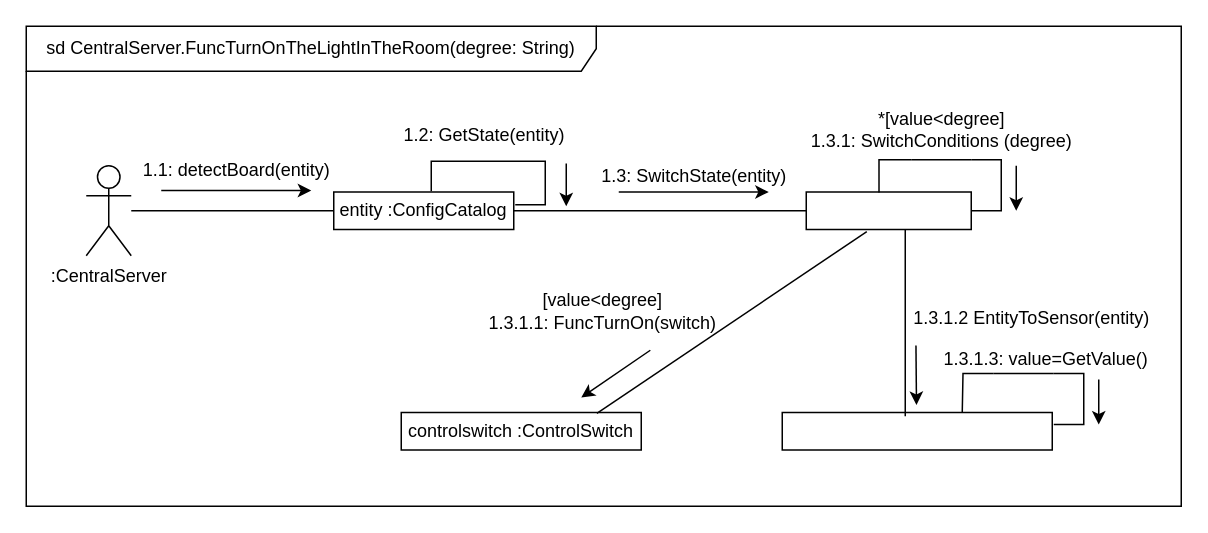
Image size: 1208x533. Some labels were removed from this diagram. The centre of each missing label's shape, as x and y in pixels:
"board :SubServer" goes at point (888, 210).
"sensorreading :SensorReading" goes at point (916, 430).
